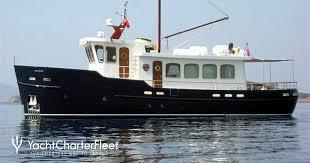Ship: (10, 2, 306, 124)
